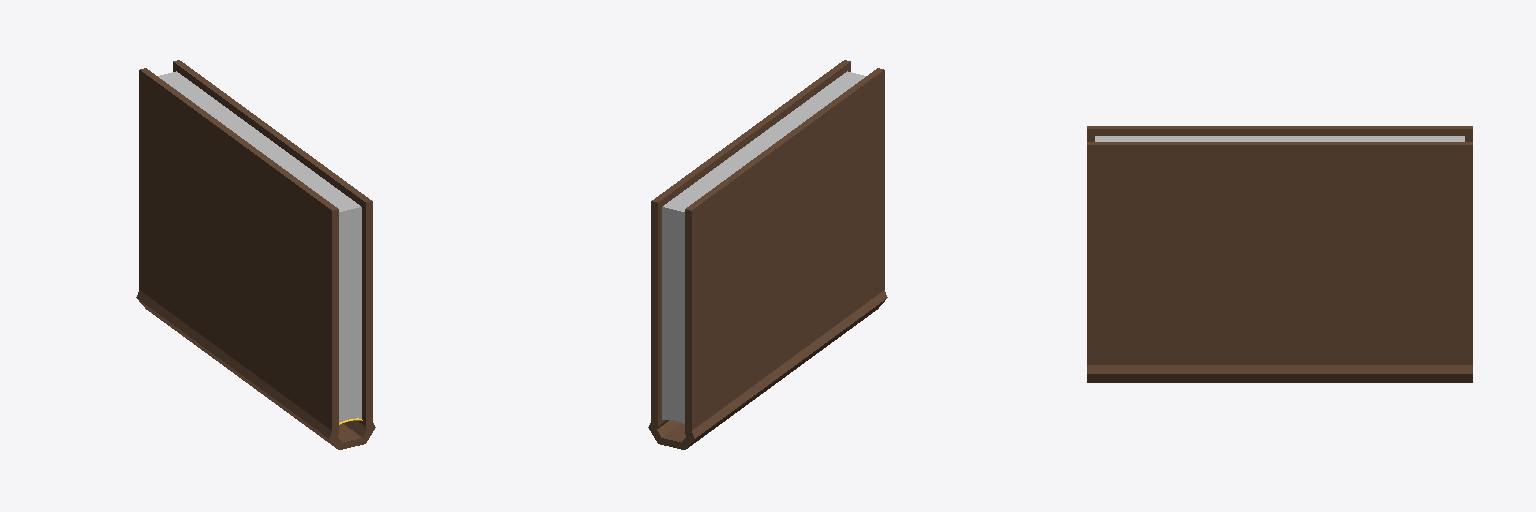
Rendered from book90.obj.
The picture shows the model from 3 angles: view 1: azimuth 30°, elevation 25°; view 2: azimuth 150°, elevation 25°; view 3: azimuth 270°, elevation 25°; orthographic projection.
Visible parts, largest first — view 1: Cover_O; view 2: Cover_O; view 3: Cover_O.
Part boxes in pixels (left/top/right/bottom): Cover_O: left=136, top=60, right=375, bottom=449; Cover_O: left=648, top=60, right=887, bottom=449; Cover_O: left=1087, top=126, right=1472, bottom=382.
Bounding box in the file's own units: 14 × 69 × 100.